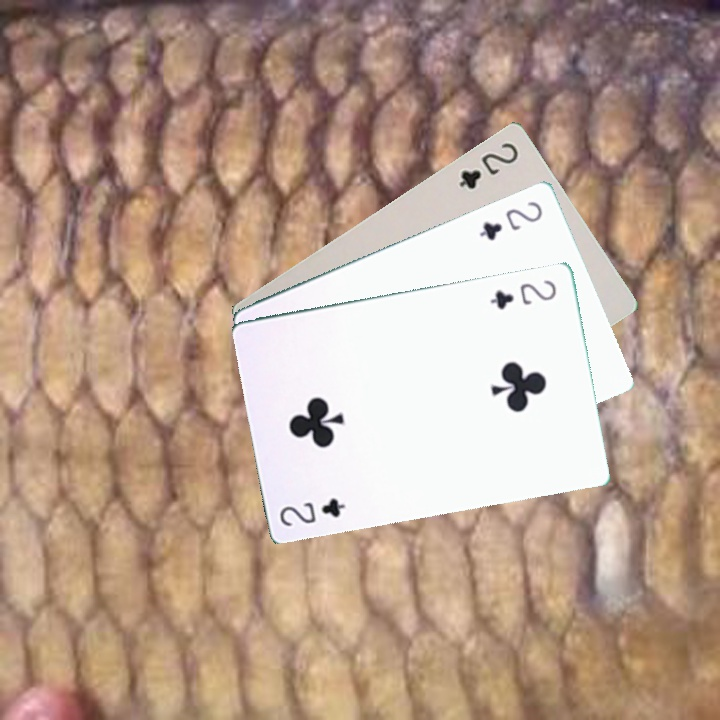2c: (454, 138, 521, 192), (475, 197, 545, 244), (486, 276, 559, 312), (275, 494, 348, 529)
